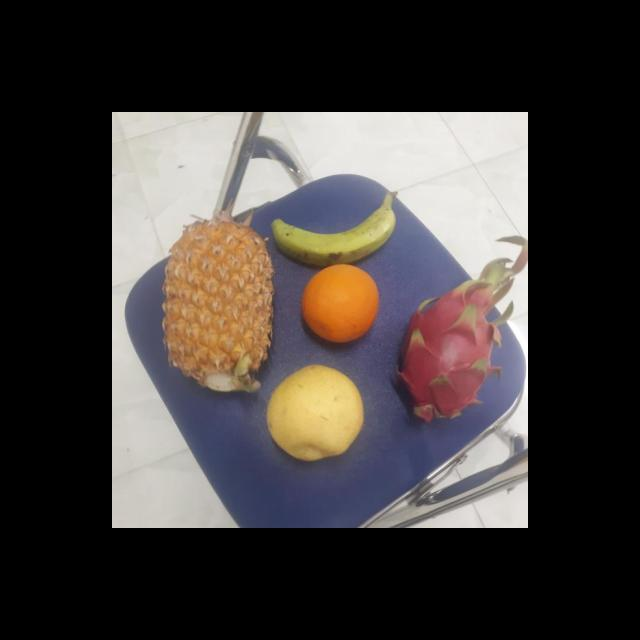banana: (268, 194, 393, 267)
orange: (298, 261, 382, 345)
pear: (262, 366, 366, 462)
pineapple: (157, 221, 276, 394)
pitaya: (390, 285, 498, 425)
